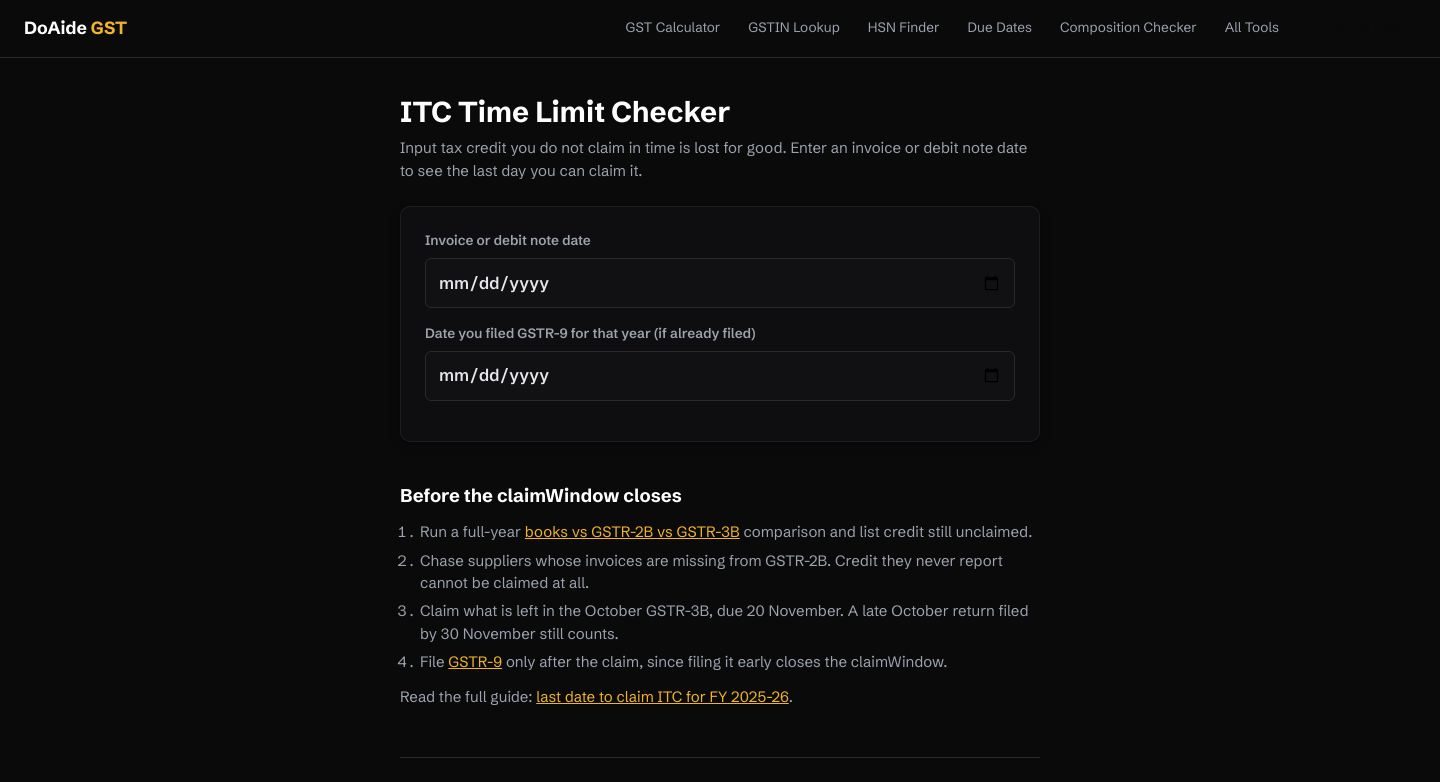
Test case: ItcTimeLimitPage › closes on the GSTR-9 date when it was filed first, and says how long ago
Type "2025-06-01" into the date field labelled "Invoice or debit note date".
click(720, 283); type("2025-06-01")  # box [425,258,1015,308]
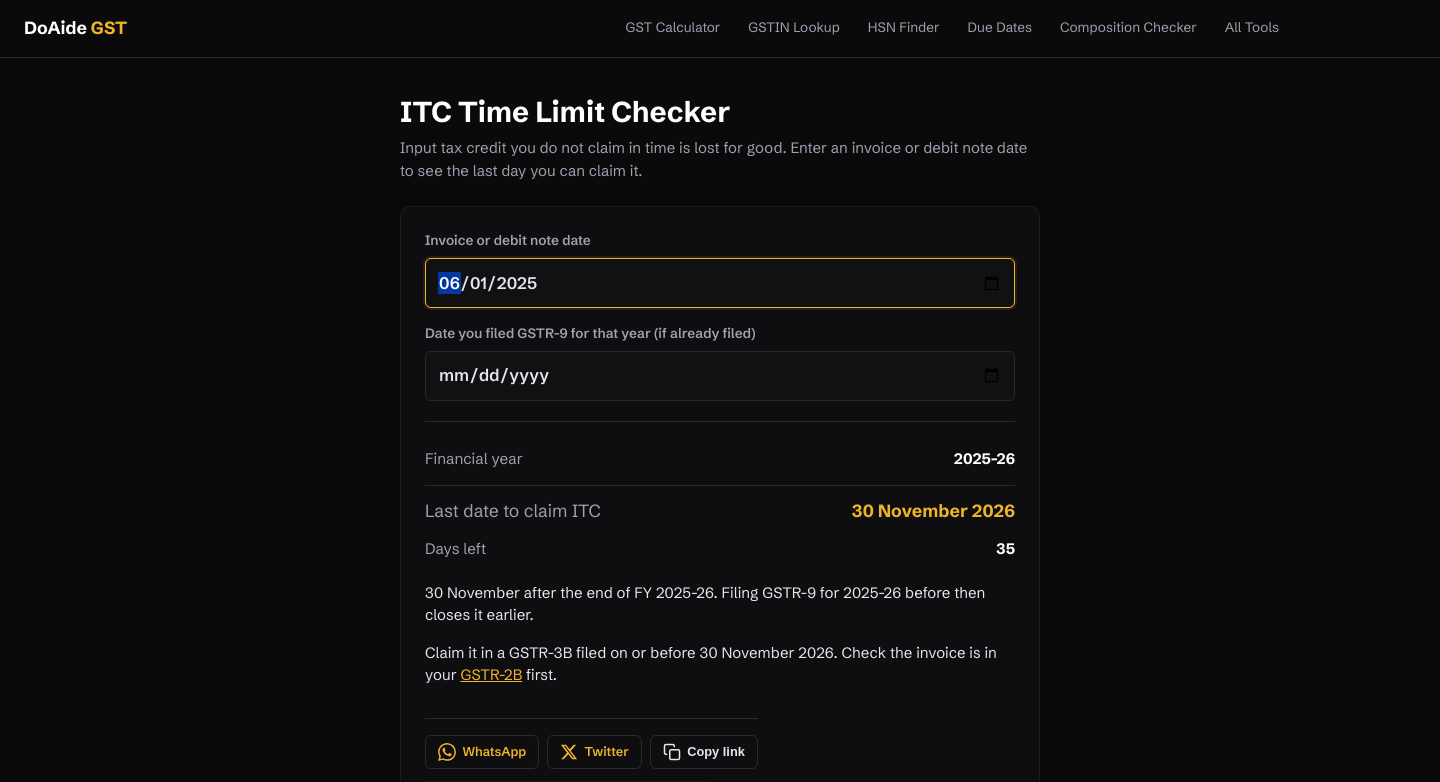
Type "2026-09-10" into the date field labelled "Date you filed GSTR-9 for that year (if already filed)".
click(720, 376); type("2026-09-10")  # box [425,351,1015,401]
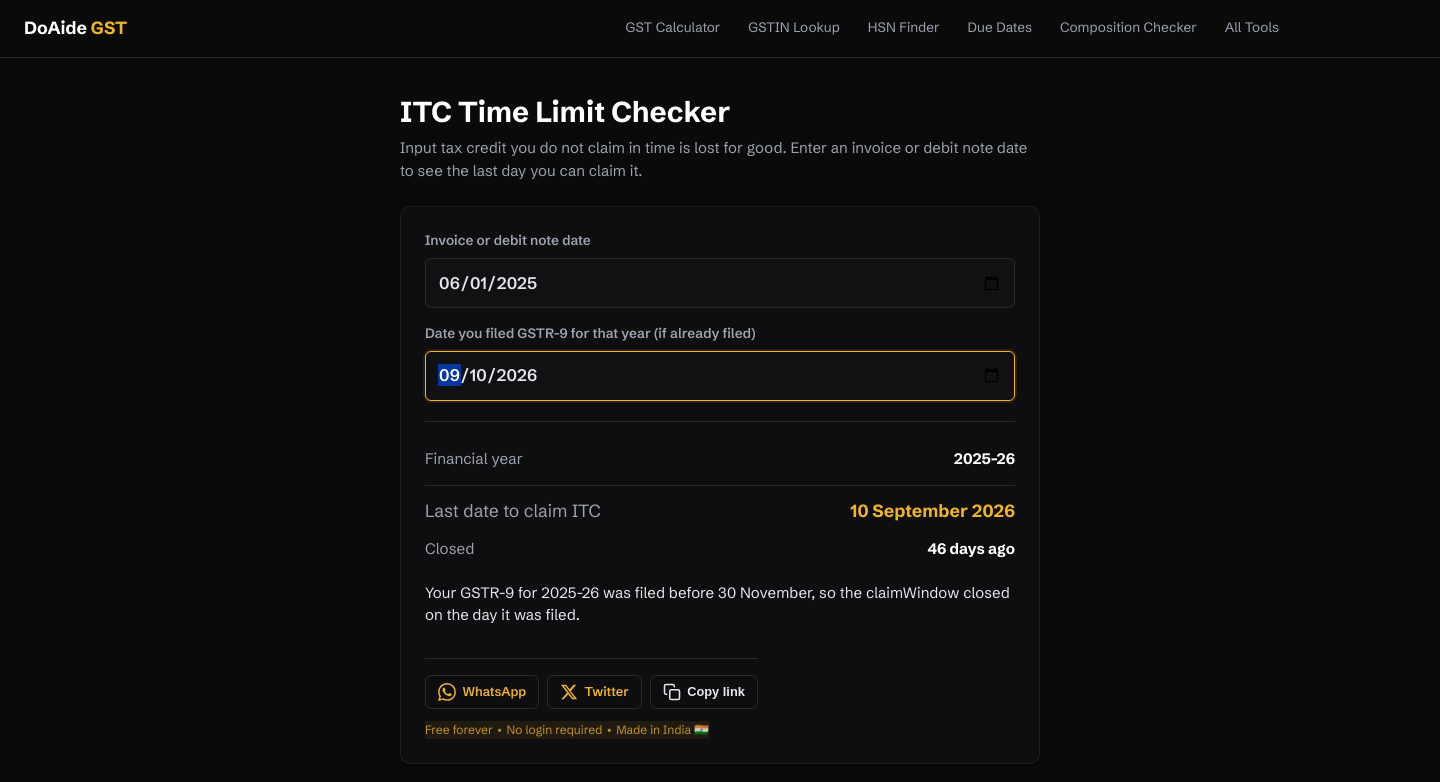
Check: the text "Last date to claim ITC" shows "10 September 2026", box [850,500,1015,522]
Check: the text "Closed" shows "46 days ago", box [927,539,1015,558]
Check: the text "closed on the day it was filed" is shown, box [425,583,1010,624]
